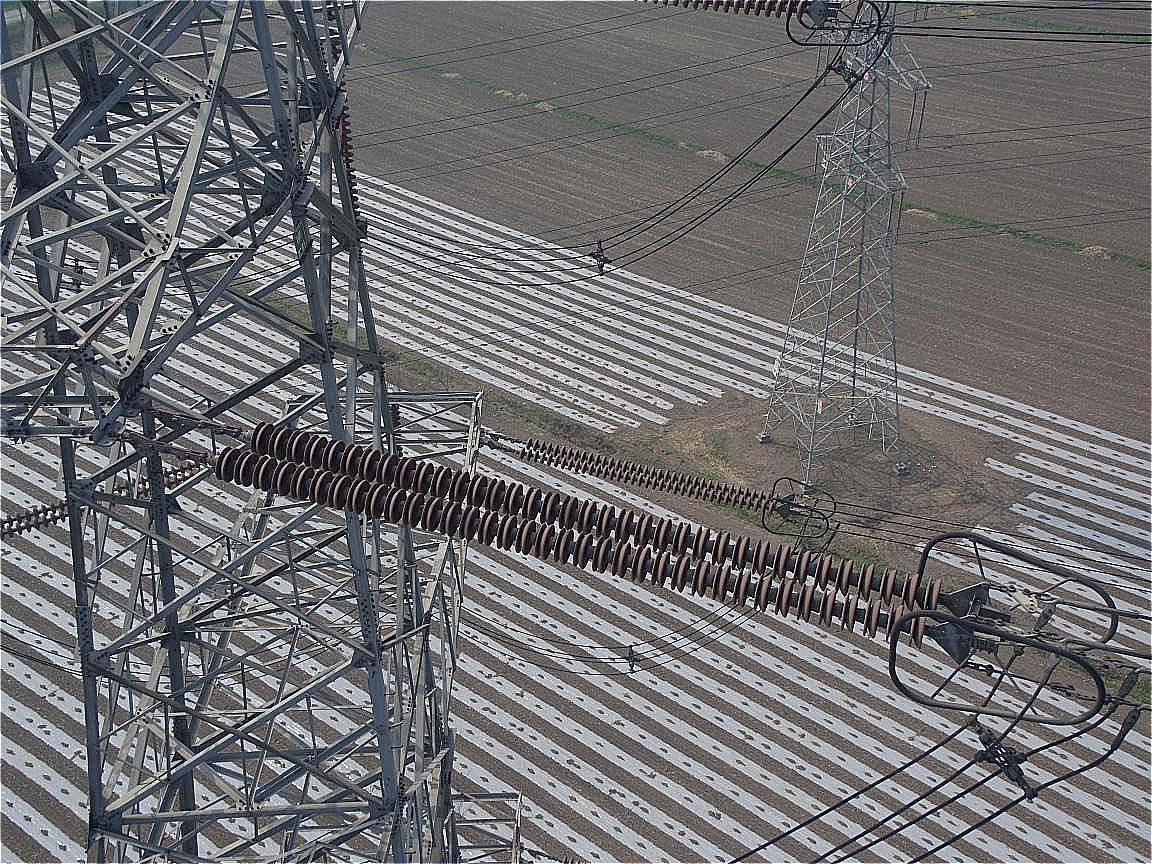insultor1: (505, 435, 794, 513)
insultor2: (195, 410, 958, 650)
